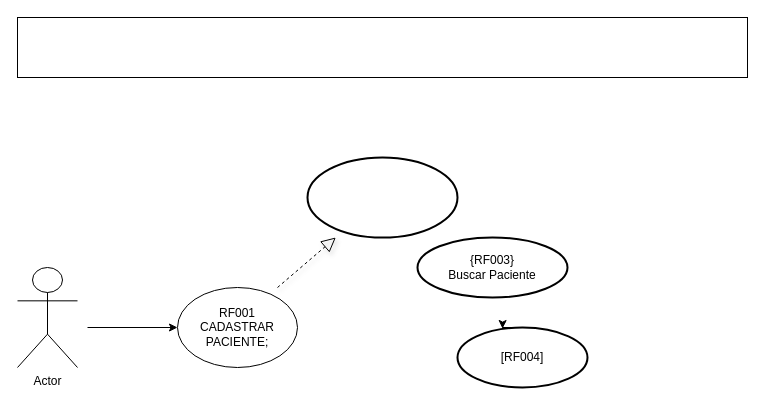
This 765x406 diagram has some shape labels left out. The shapes that lost their labels are listed below. From the top down, each one's centre as x and y in pixels, then its label:
point (382, 47): PROJETO DE CADASTRO PARA FILA DE TRANSPLANTE DIGITTAL
point (382, 197): [RF002] ADCIONAR PACIENTE
